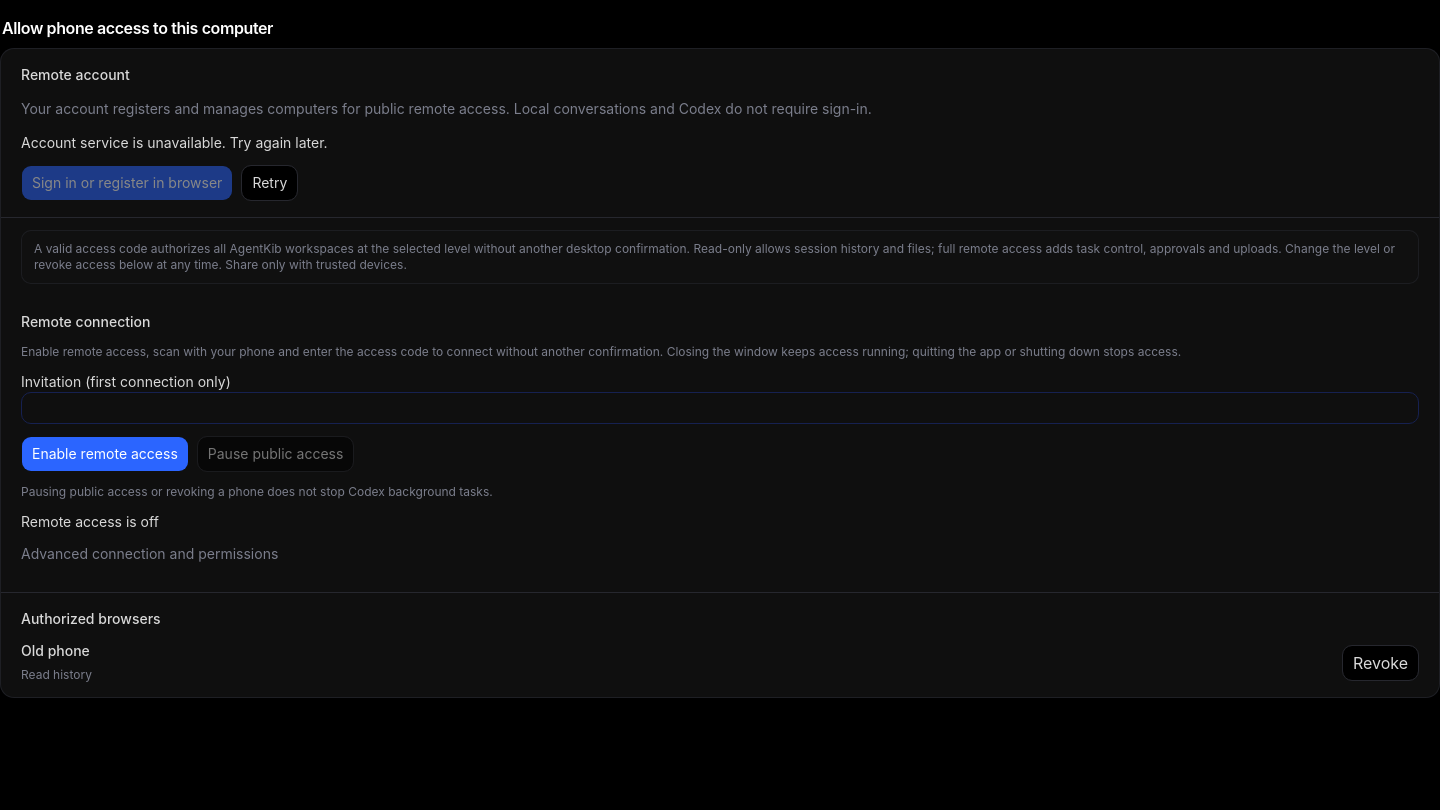
Test: keeps legacy grant settings explicitly separate on code-only hosts
Expected: the text "Old phone" is shown, x1=21 y1=642 x2=90 y2=659
Click the button "Advanced connection and permissions". click: [150, 554]
box: x1=21 y1=544 x2=278 y2=564
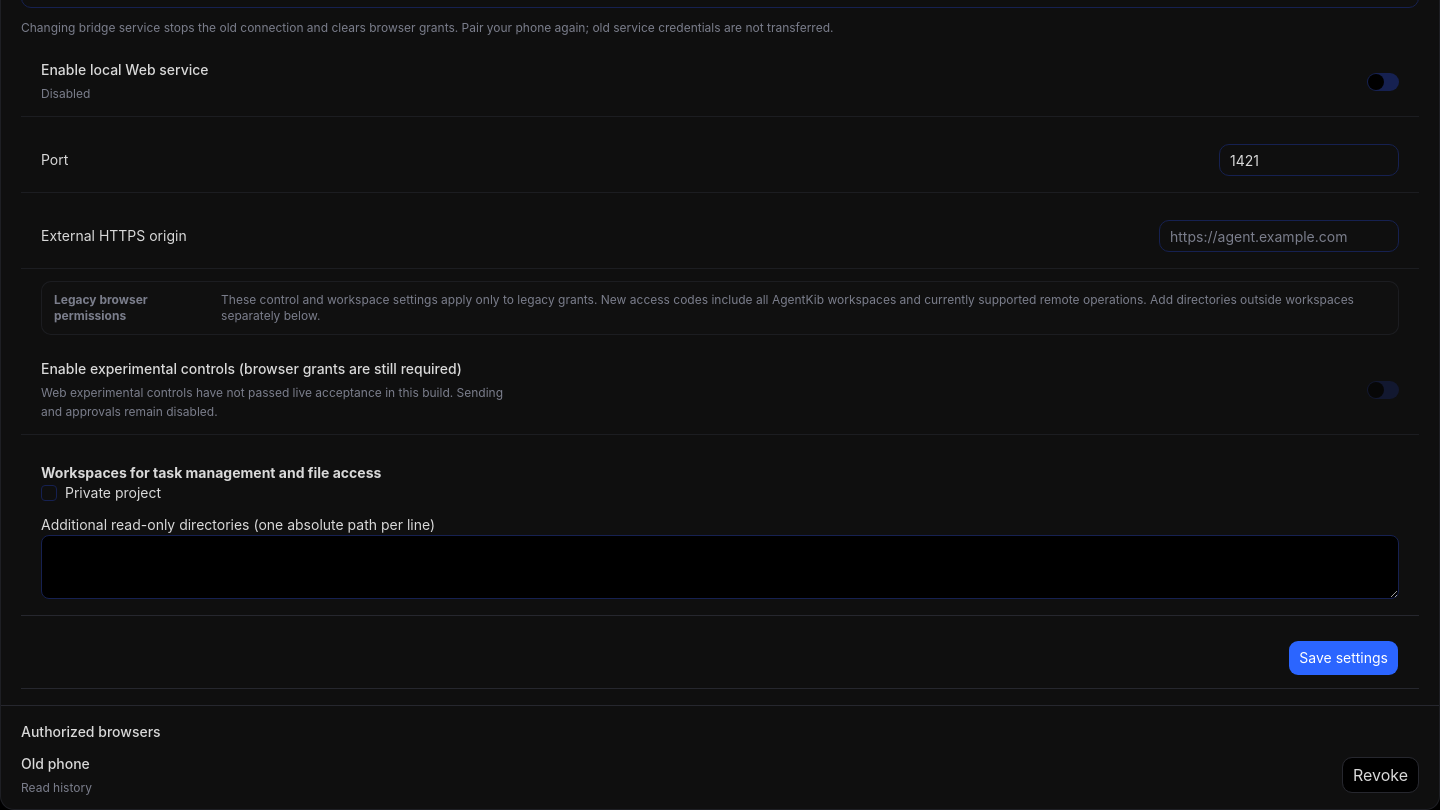
Now the text "Legacy browser permissions" is shown, box x1=54 y1=292 x2=148 y2=322
Now the checkbox named "Private project" is shown, box x1=41 y1=484 x2=57 y2=500
Now the text "Full remote access" is gone
